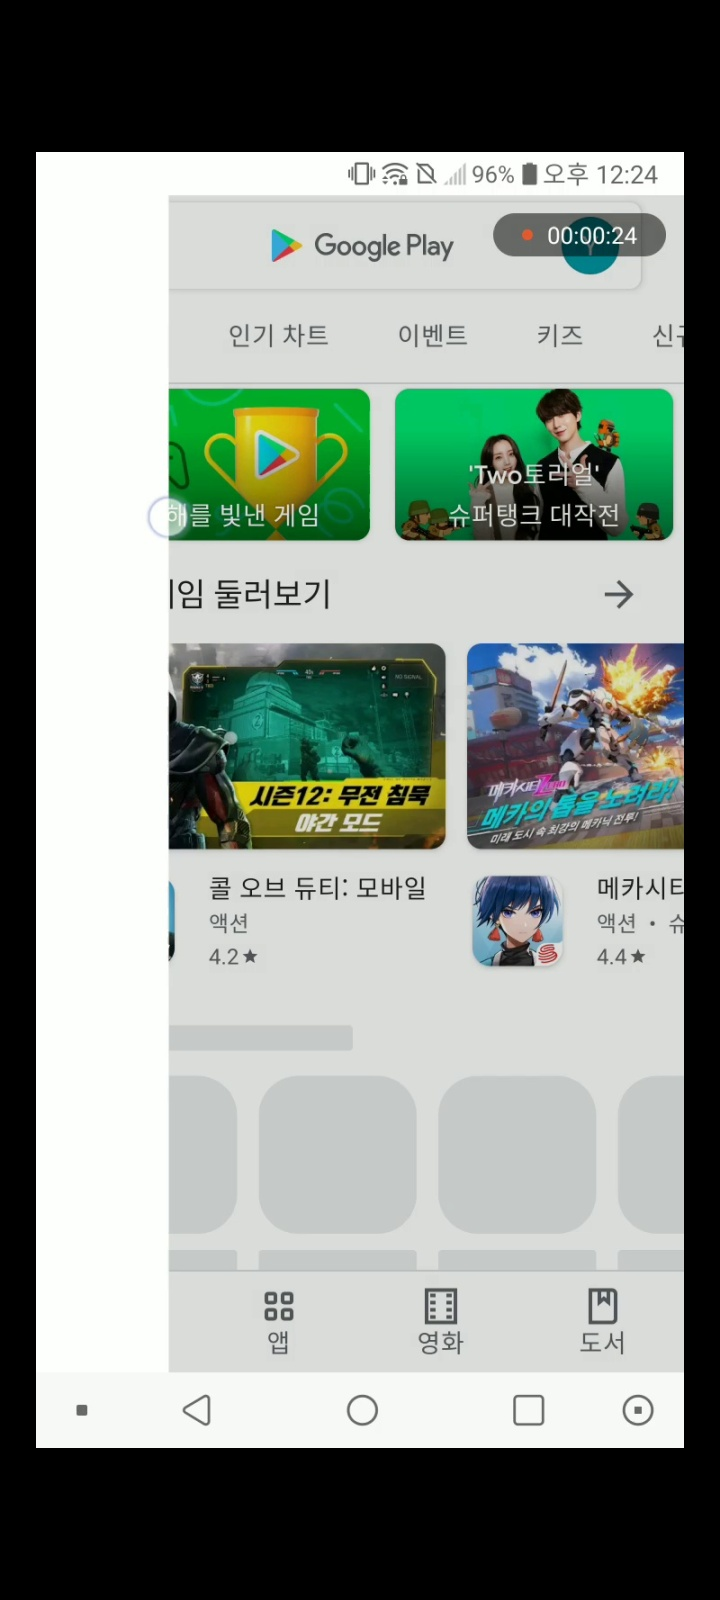Cursor: (145, 495, 190, 540)
